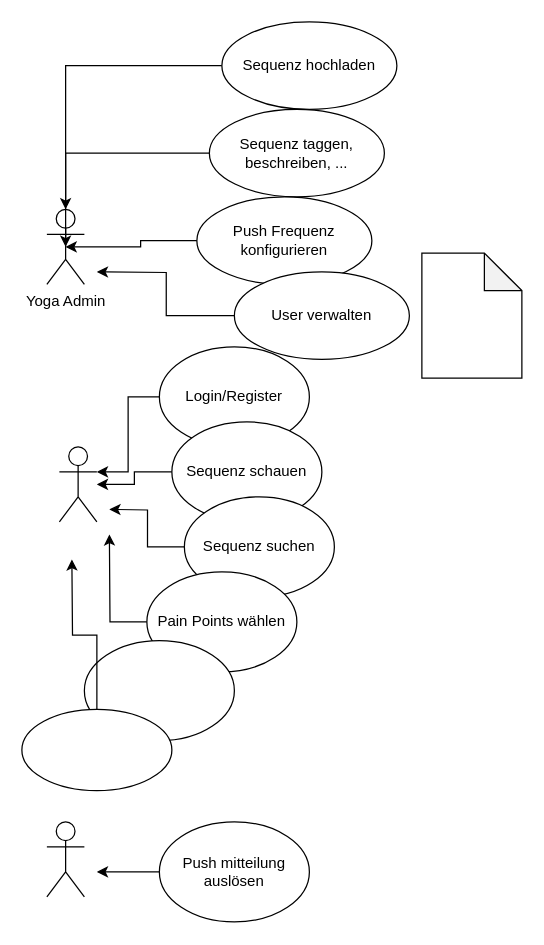
Image size: 544x945. Some labels were removed from this diagram. Here are the shapes that lost their labels. From the top down, the box of each, then its label:
(421, 252, 522, 378): wie pushen, wenn noch nicht absolviert?
(58, 446, 97, 522): User
(83, 639, 234, 741): Sequenz liken
(21, 708, 172, 791): Vorschläge betrachten
(46, 821, 84, 897): Zeit
